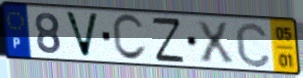8: (34, 12, 64, 55)
C: (110, 12, 149, 63), (233, 20, 272, 70)
V: (63, 9, 101, 60)
X: (193, 19, 236, 65)
Z: (150, 16, 187, 64)
